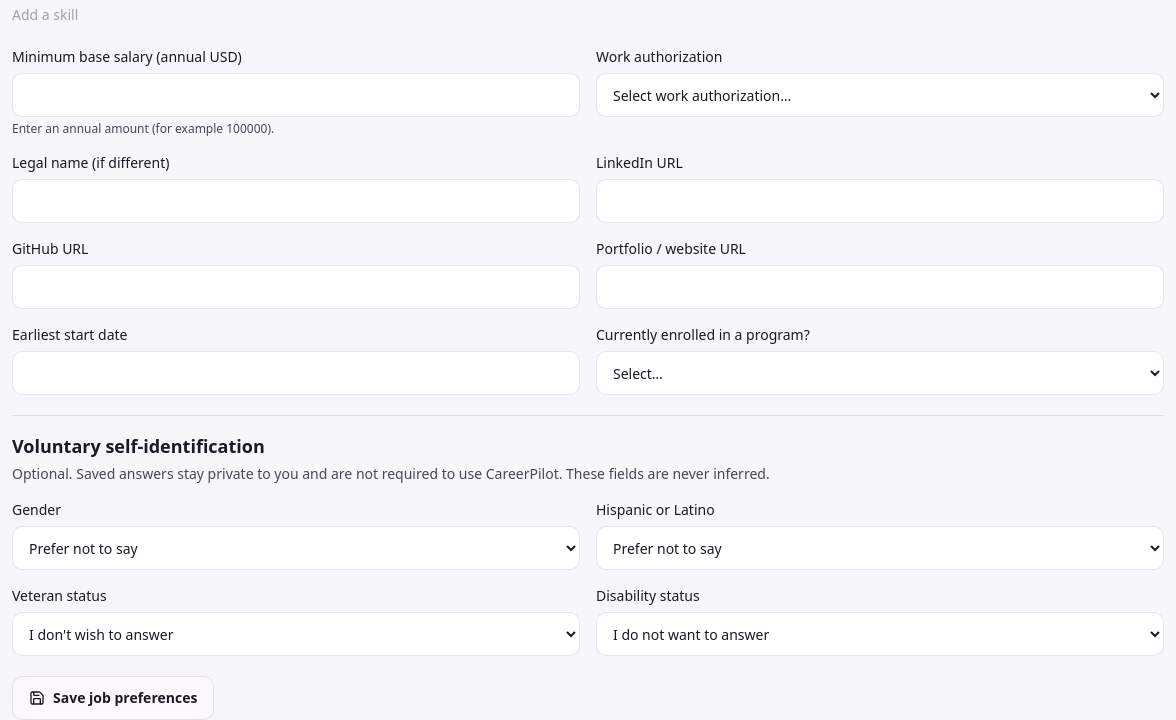
Scenario: PreferenceForm › validates that at least one target role is required
(page scrolled)
Step 1. Click the button "Save job preferences" → {"x": 113, "y": 698}, box [12, 676, 214, 719]
(page scrolled)
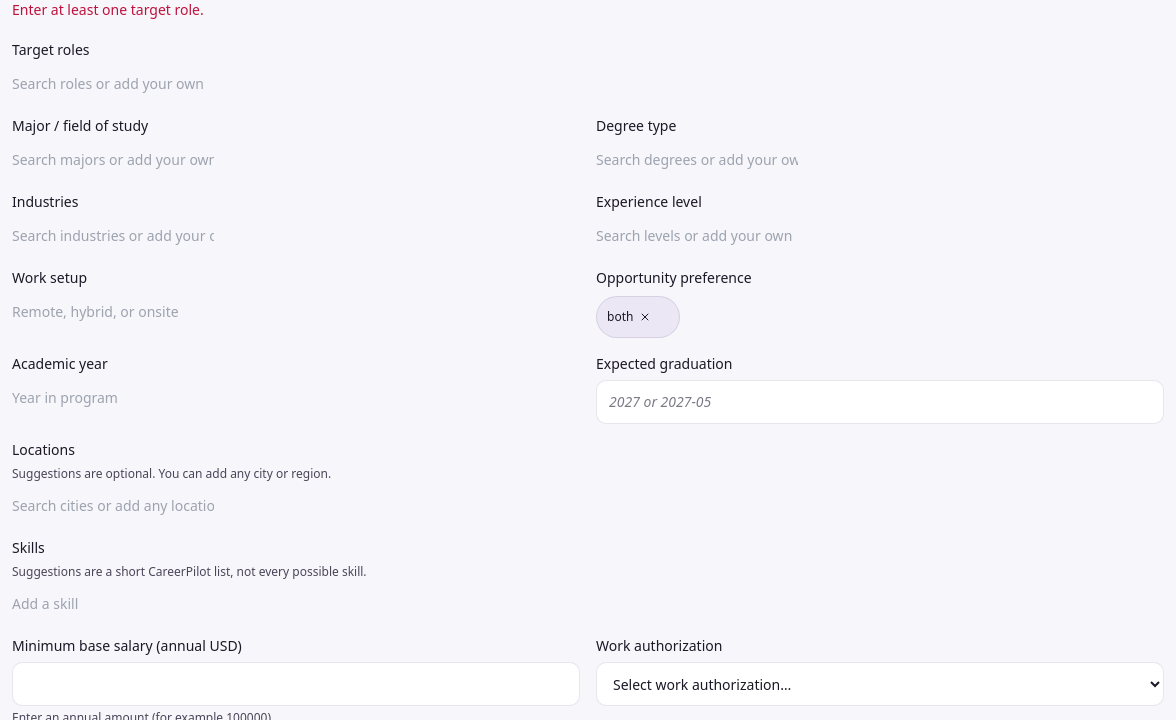
Expected: the text "Enter at least one target role." is shown, [12, 0, 204, 19]
